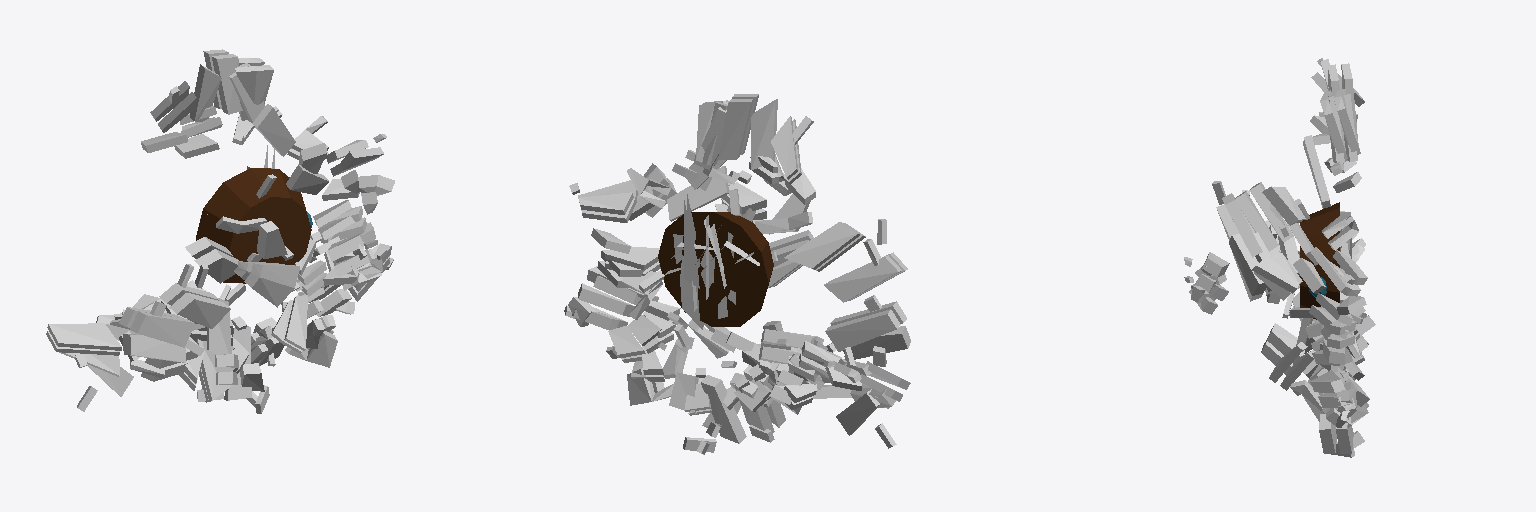
3 renders of one model, left to right at view 1: azimuth 30°, elevation 25°; view 2: azimuth 150°, elevation 25°; view 3: azimuth 270°, elevation 25°, orthographic.
Visible parts, largest first — view 1: Cone_Cone_cover, Cone.001_Cone.001_cover, Cylinder_Cylinder_Material.001; view 2: Cone_Cone_cover, Cone.001_Cone.001_cover, Cylinder_Cylinder_Material.001, Plane_Plane_Material.003; view 3: Cone_Cone_cover, Cone.001_Cone.001_cover, Cylinder_Cylinder_Material.001.
Boxes of the visible parts, box(x1,y1,x2,y2) form: Cone_Cone_cover: box(110, 143, 394, 413); Cone.001_Cone.001_cover: box(46, 49, 386, 411); Cylinder_Cylinder_Material.001: box(196, 168, 311, 283); Cone_Cone_cover: box(564, 163, 910, 454); Cone.001_Cone.001_cover: box(569, 94, 910, 448); Cylinder_Cylinder_Material.001: box(658, 212, 773, 326); Plane_Plane_Material.003: box(665, 194, 759, 329); Cone_Cone_cover: box(1184, 182, 1375, 457); Cone.001_Cone.001_cover: box(1191, 58, 1368, 407); Cylinder_Cylinder_Material.001: box(1300, 202, 1339, 319).
Size of the model in its own units: 3.42 by 3.53 by 1.67.
Materials: 4 (1 with a texture image).